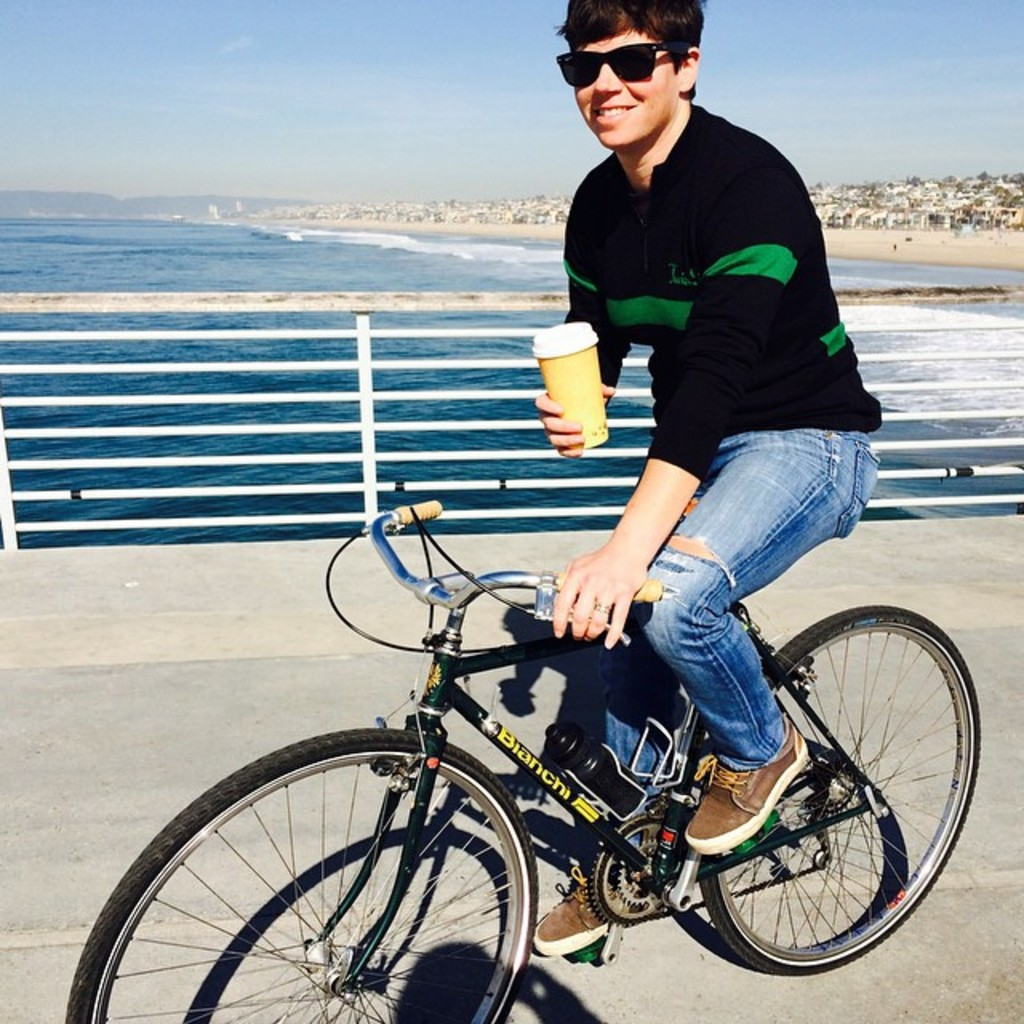Bike: (97, 517, 924, 1024)
